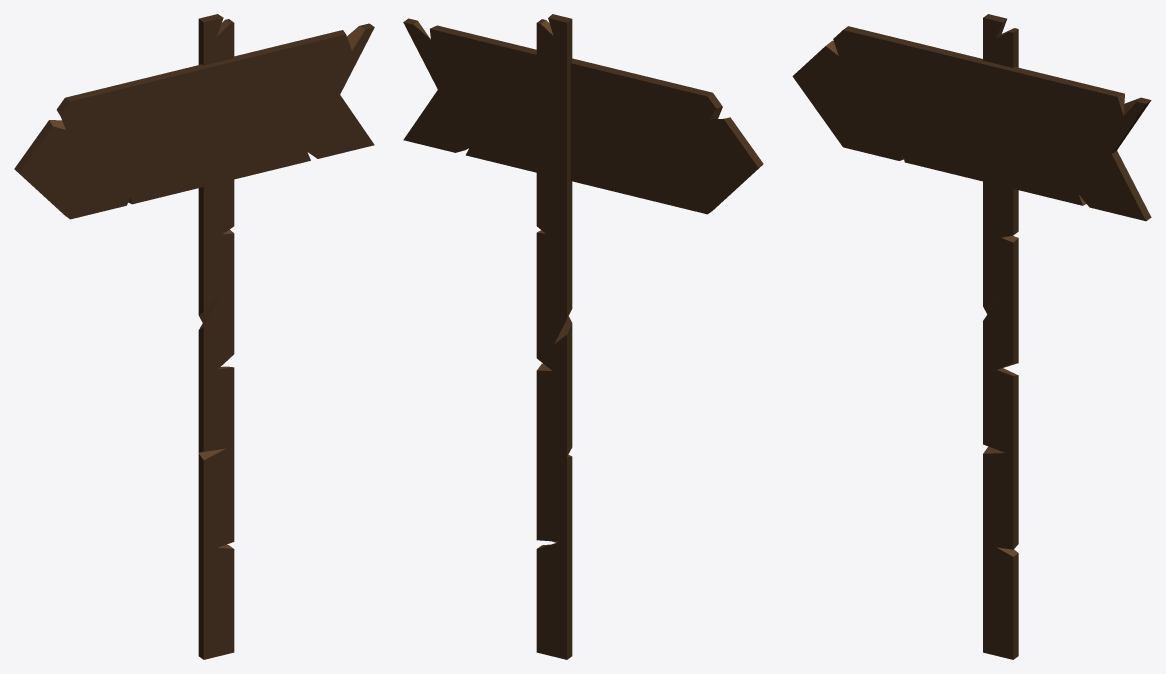
Rendered from Sign_1_Dark_Brown.fbx.
The picture shows the model from 3 angles, left to right: view 1: azimuth 30°, elevation 25°; view 2: azimuth 150°, elevation 25°; view 3: azimuth 330°, elevation 25°; orthographic projection.
Visible parts, largest first — view 1: Sign_1_Dark_Brown; view 2: Sign_1_Dark_Brown; view 3: Sign_1_Dark_Brown.
Boxes of the visible parts, <box> form: Sign_1_Dark_Brown: <box>14,14,374,659</box>; Sign_1_Dark_Brown: <box>403,14,763,659</box>; Sign_1_Dark_Brown: <box>792,14,1151,659</box>.
Size of the model in its own units: 117 by 200 by 5.
